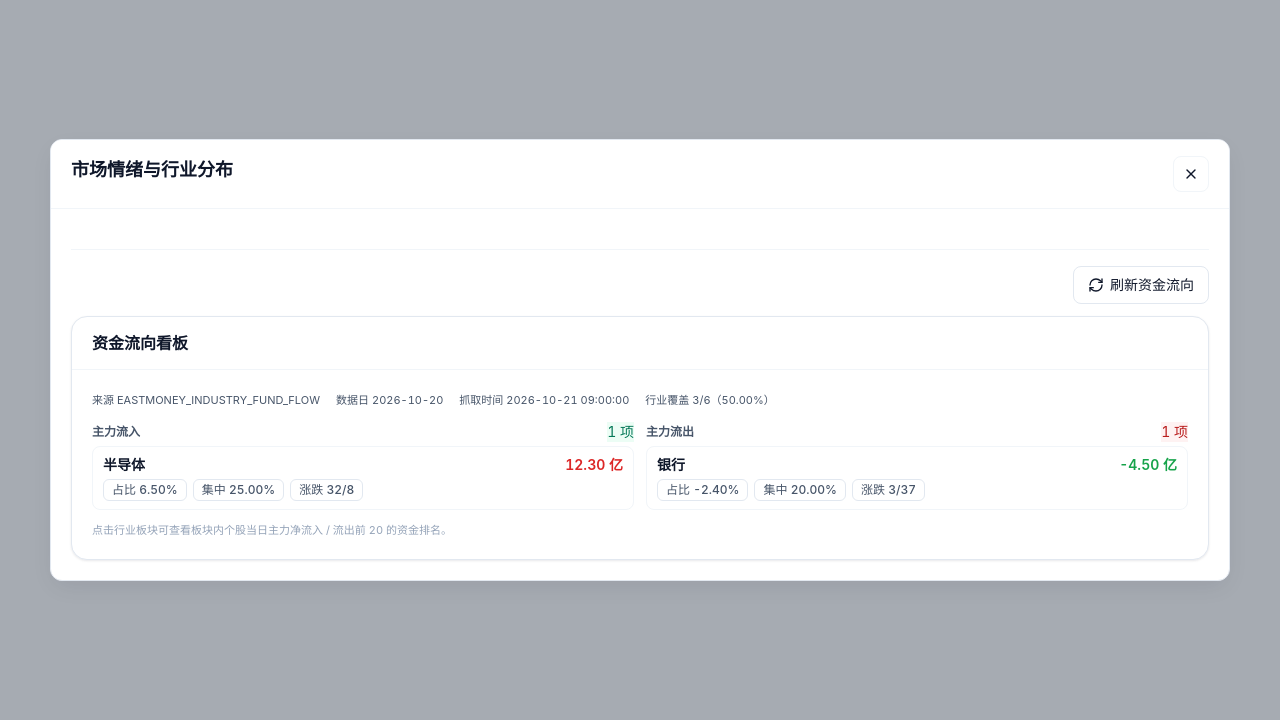
MarketFundFlowPanel › keeps the last snapshot and reports a failed manual refresh
Click the button "刷新资金流向": click(1141, 285) [1073,266,1209,304]
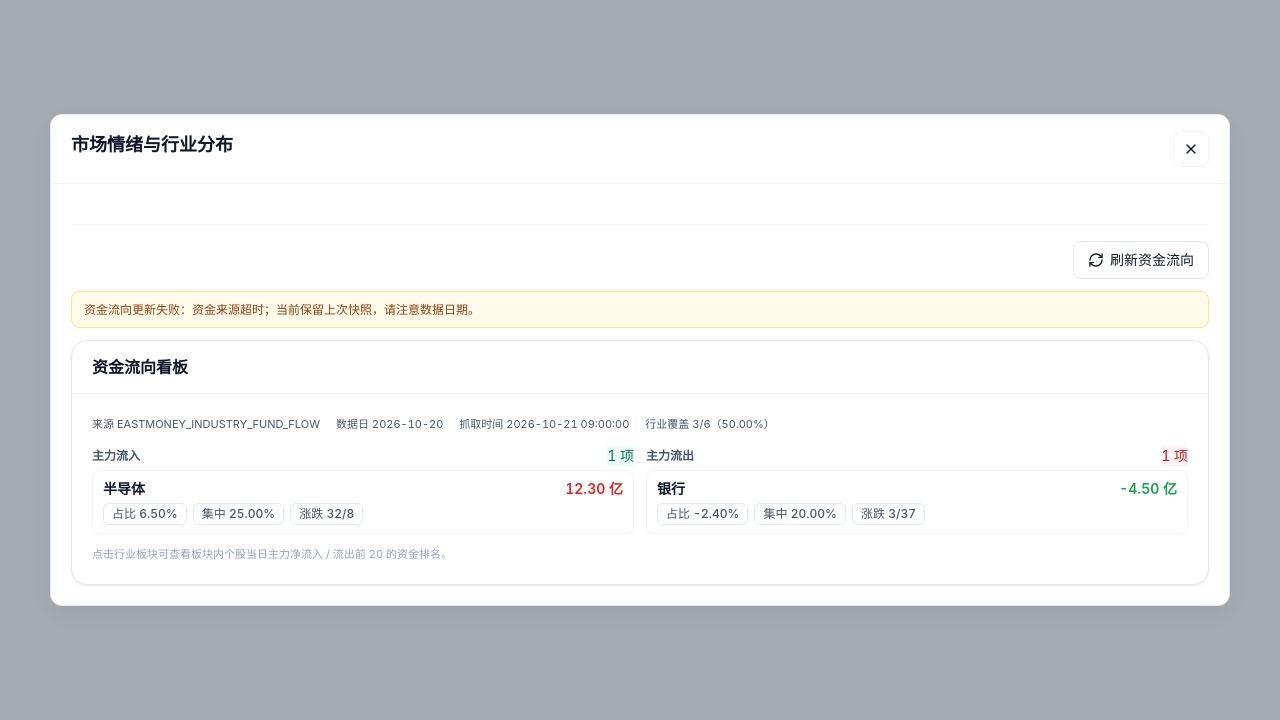
Expected: the text "半导体" is shown, [103,479,145,499]
Expected: the text "资金流向更新失败" is shown, [84,302,192,317]
Expected: the text "资金来源超时" is shown, [192,302,264,317]
